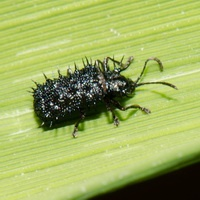insect: (32, 56, 176, 135)
